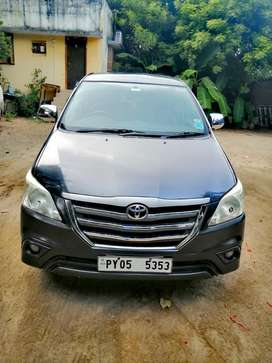PY055353: (98, 255, 172, 272)
